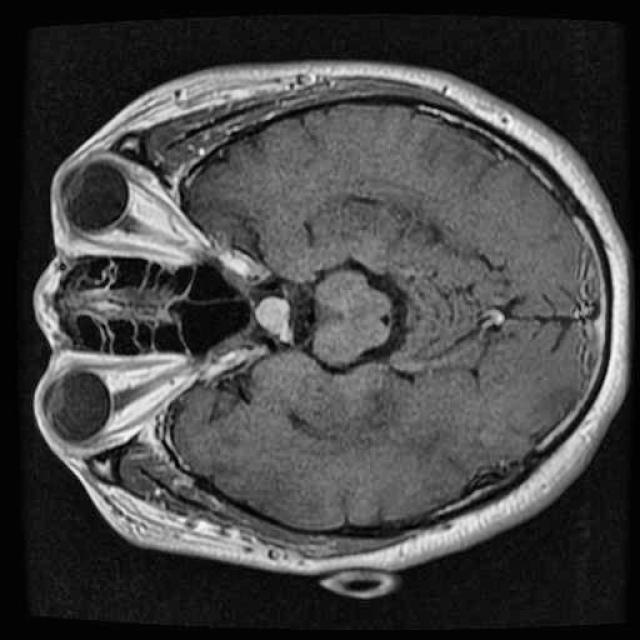Tumor: (248, 288, 299, 342)
